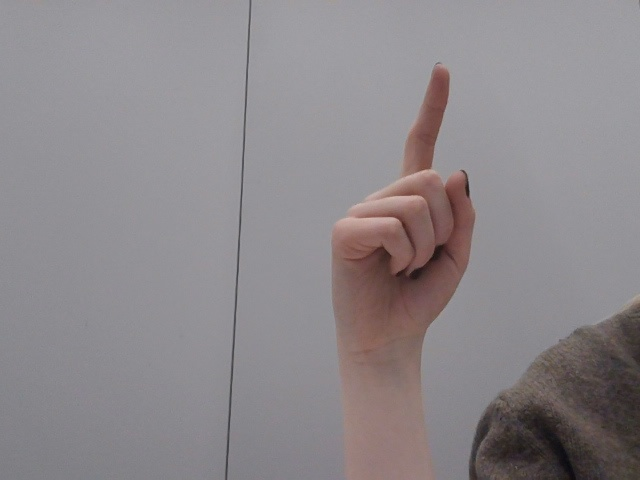up: (308, 55, 491, 361)
